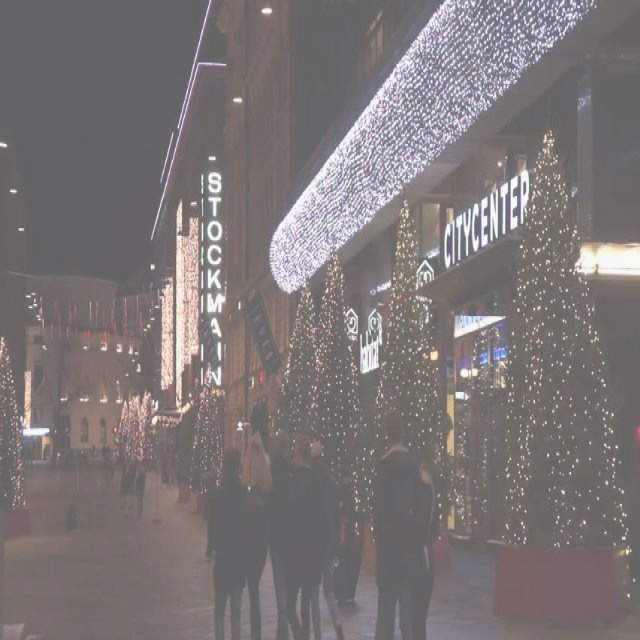pessoa: (371, 406, 426, 638), (200, 441, 250, 638), (399, 436, 442, 639), (282, 431, 320, 638), (237, 428, 274, 639), (308, 438, 347, 638), (324, 472, 362, 611), (118, 448, 150, 527), (41, 440, 113, 467), (268, 426, 293, 494), (248, 394, 273, 454)
